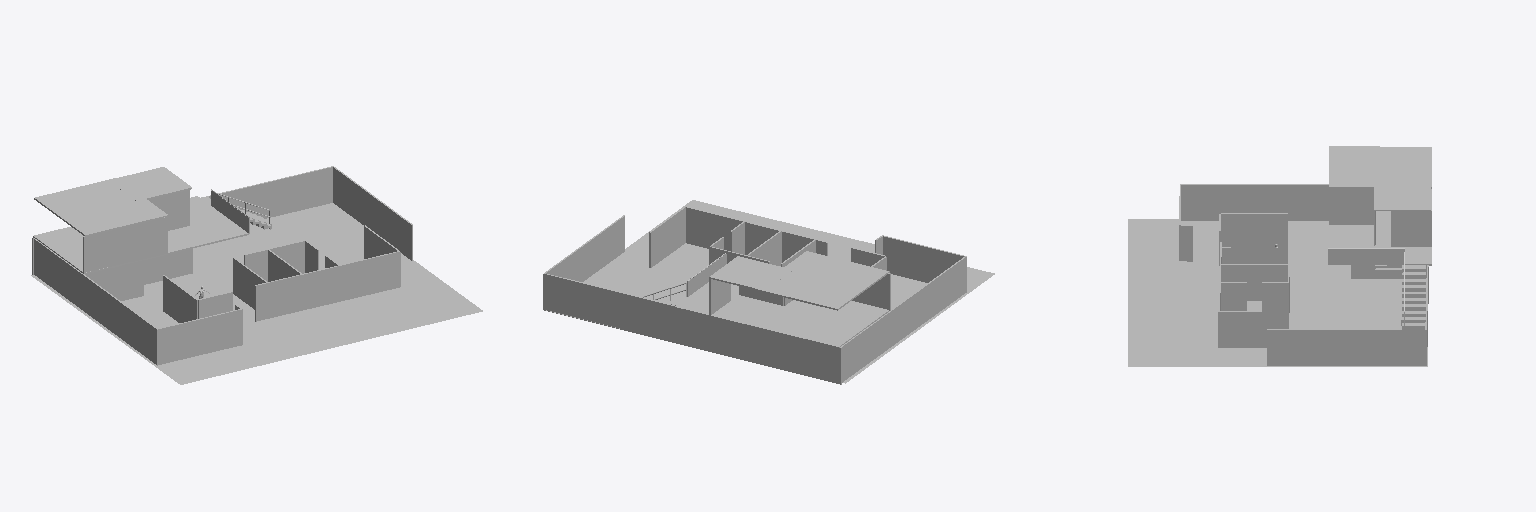
Rendered from Apto.obj.
3 views of the same model, side by side, from view 1: azimuth 30°, elevation 25°; view 2: azimuth 150°, elevation 25°; view 3: azimuth 270°, elevation 25° (orthographic).
Parts seen in each view (by area): view 1: pPlane1, pCube16, pCube9, pCube63, pCube51, pCube7, pCube58, pCube11, pCube23, pCube64, pCube10, pCube53 (+8 smaller); view 2: pCube7, pPlane1, pCube51, pCube9, pCube63, pCube16, pCube23, pCube11, pCube64, pCube22, pCube58, pCube18 (+2 smaller); view 3: pPlane1, pCube23, pCube9, pCube63, pCube13, pCube51, pCube22, pCube64, pCube56, pCube18, pCube55, pCube52 (+4 smaller).
Part boxes in pixels (x1,y1,x2,y2): pPlane1: (31, 203, 482, 384); pCube16: (255, 251, 400, 321); pCube9: (34, 238, 158, 365); pCube63: (34, 178, 167, 236); pCube51: (33, 196, 248, 274); pCube7: (32, 166, 332, 274); pCube58: (83, 217, 167, 273); pCube11: (158, 309, 240, 364); pCube23: (332, 166, 412, 260); pCube64: (108, 167, 191, 200); pCube10: (83, 260, 143, 300); pCube53: (144, 249, 192, 284); pCube7: (543, 273, 841, 384); pPlane1: (546, 200, 994, 383); pCube51: (675, 282, 890, 348); pCube9: (841, 256, 966, 382); pCube63: (755, 251, 889, 310); pCube16: (685, 206, 827, 262); pCube23: (544, 215, 624, 281); pCube11: (883, 236, 964, 282); pCube64: (709, 256, 792, 290); pCube22: (649, 207, 685, 267); pCube58: (852, 273, 890, 310); pCube18: (747, 231, 781, 265); pPlane1: (1128, 219, 1427, 366); pCube23: (1267, 329, 1425, 365); pCube9: (1180, 184, 1328, 220); pCube63: (1329, 146, 1431, 188); pCube13: (1221, 213, 1287, 247); pCube51: (1329, 189, 1431, 265); pCube22: (1220, 311, 1288, 347); pCube64: (1374, 182, 1430, 210); pCube56: (1329, 188, 1373, 224); pCube18: (1221, 264, 1287, 300); pCube55: (1391, 210, 1431, 246); pCube52: (1328, 249, 1404, 264).
Bounding box in the file's own units: 2544 × 615 × 2214.